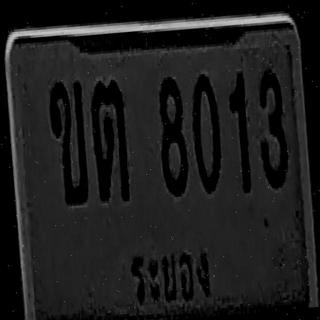A02: (47, 78, 91, 205)
A21: (88, 78, 131, 202)
N00: (188, 71, 224, 192)
N01: (226, 70, 253, 192)
N03: (254, 66, 290, 188)
N08: (154, 74, 190, 195)
P53: (121, 231, 221, 320)
